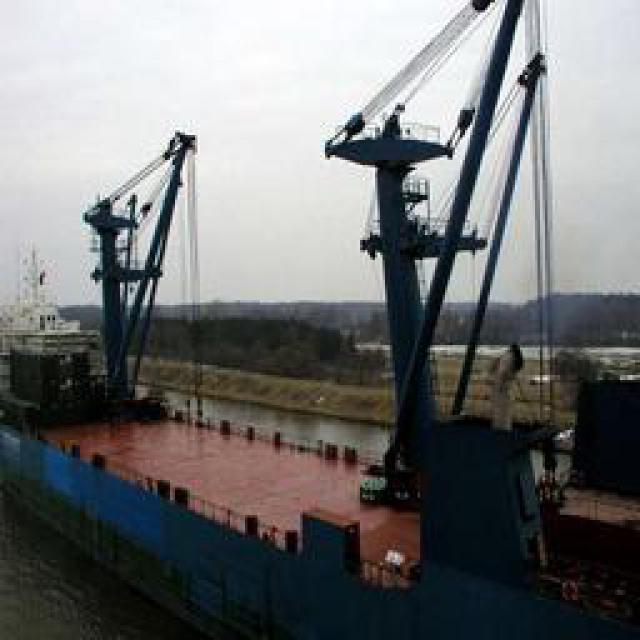Ship: (335, 1, 638, 526)
